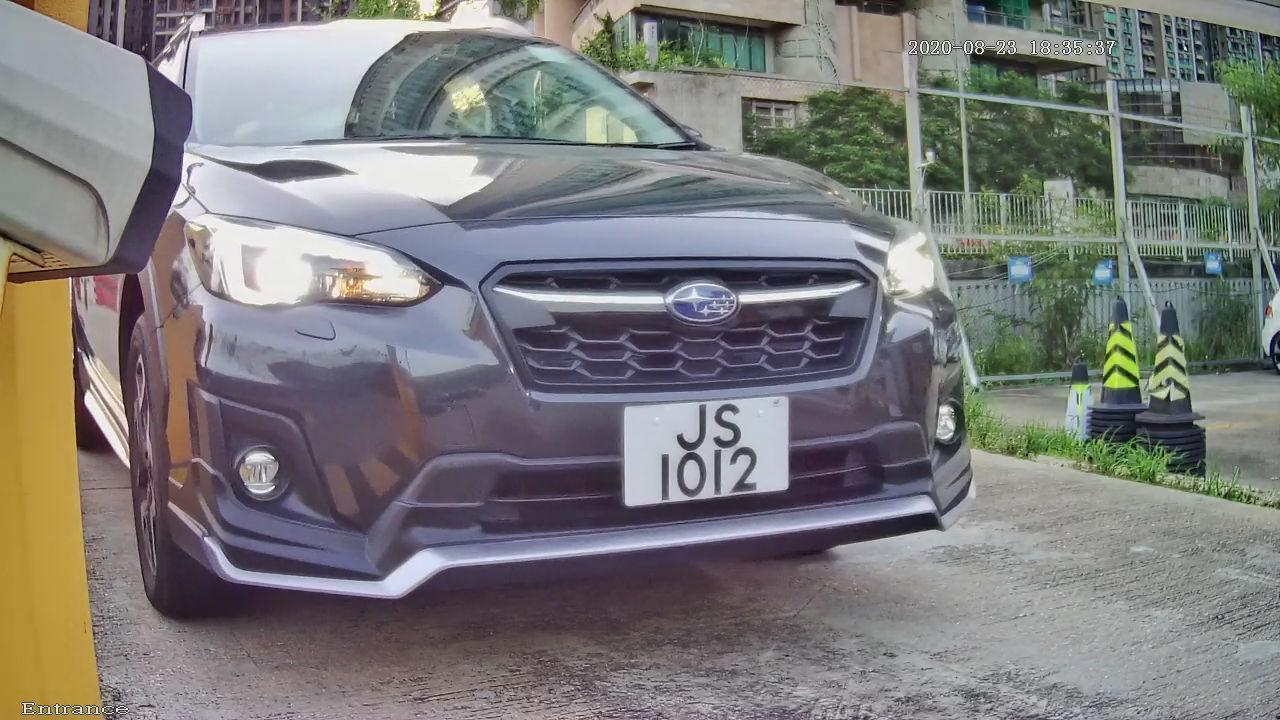License Plate: (574, 335, 849, 553)
